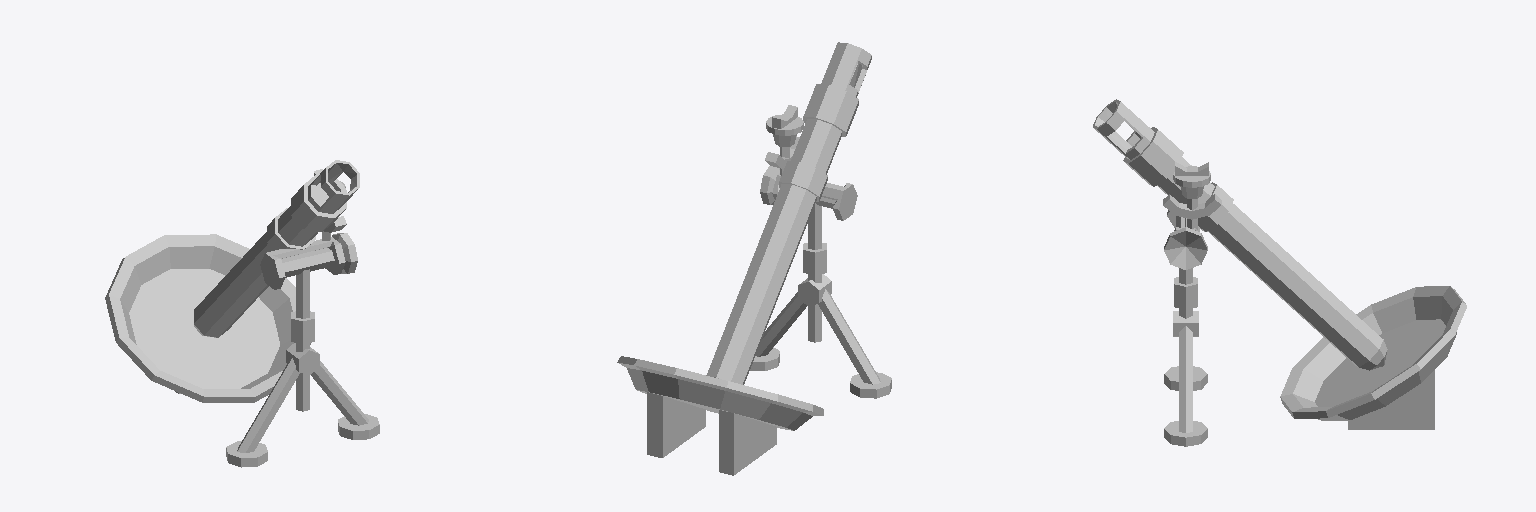
File: mortar_001.obj
3 renders of one model, left to right at view 1: azimuth 30°, elevation 25°; view 2: azimuth 150°, elevation 25°; view 3: azimuth 270°, elevation 25°, orthographic.
Visible parts, largest first — view 1: mortar_001; view 2: mortar_001; view 3: mortar_001.
Boxes of the visible parts, box(x1,y1,x2,y2) form: mortar_001: box(105, 160, 379, 467); mortar_001: box(617, 42, 891, 475); mortar_001: box(1093, 99, 1466, 446).
Bounding box in the file's own units: 0.7047 × 1.12 × 1.23.